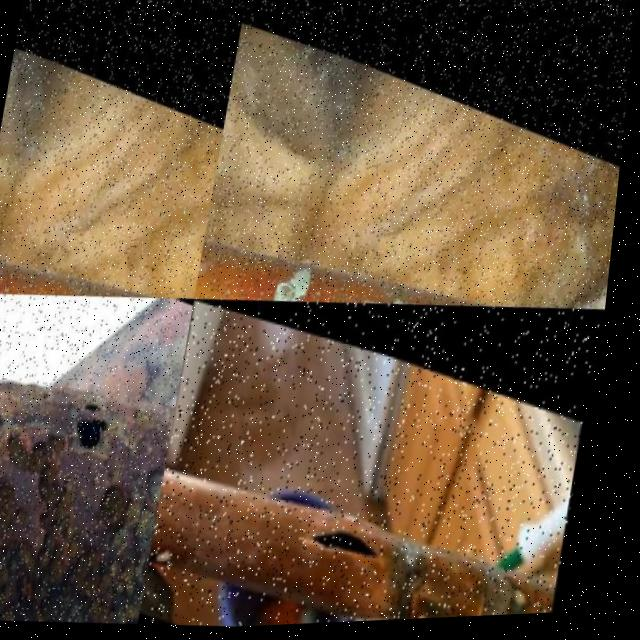hole: (82, 395, 125, 449), (90, 380, 120, 407), (1, 382, 13, 442)
rupture: (307, 504, 404, 575)
